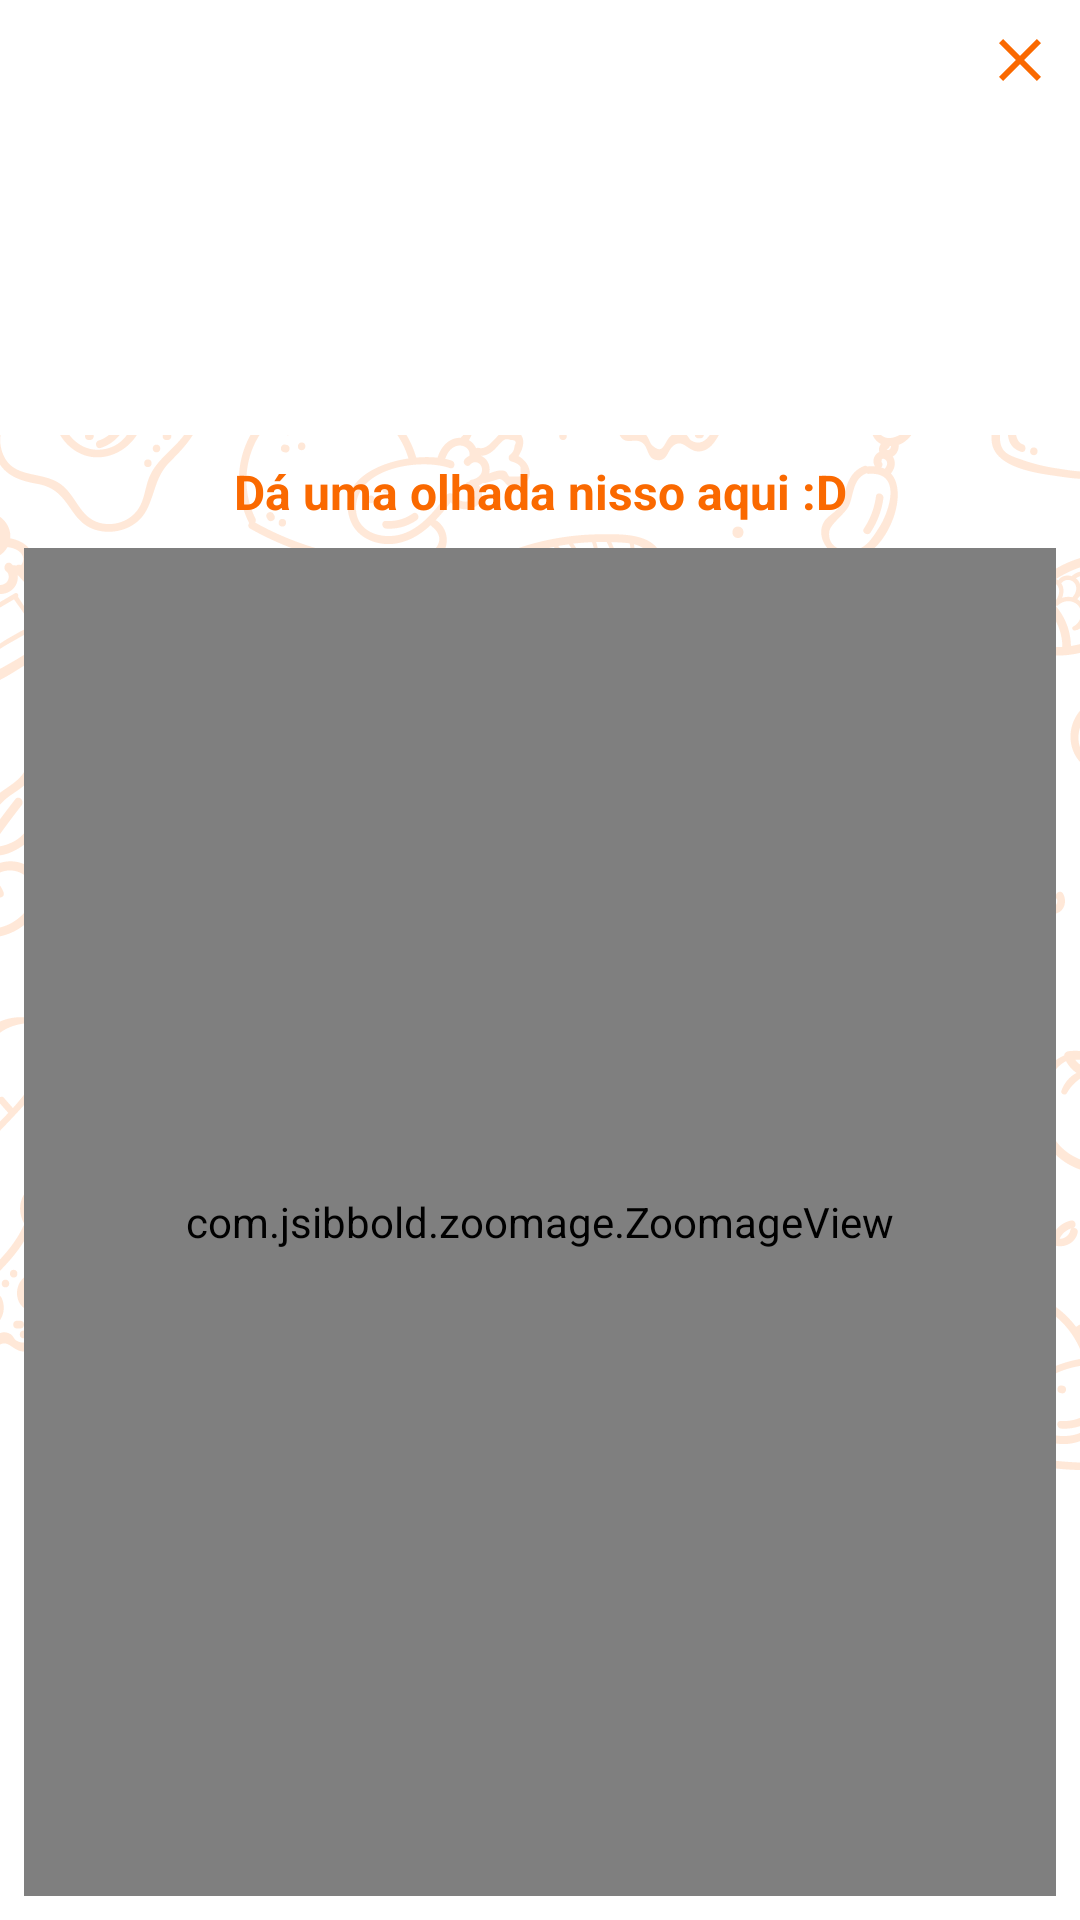

Screen size 1080*1920. Icon name, then its box in pixels as {"left": x1, "top": y1, "right": x2, "bottom": y2}:
close: {"left": 999, "top": 39, "right": 1041, "bottom": 81}
